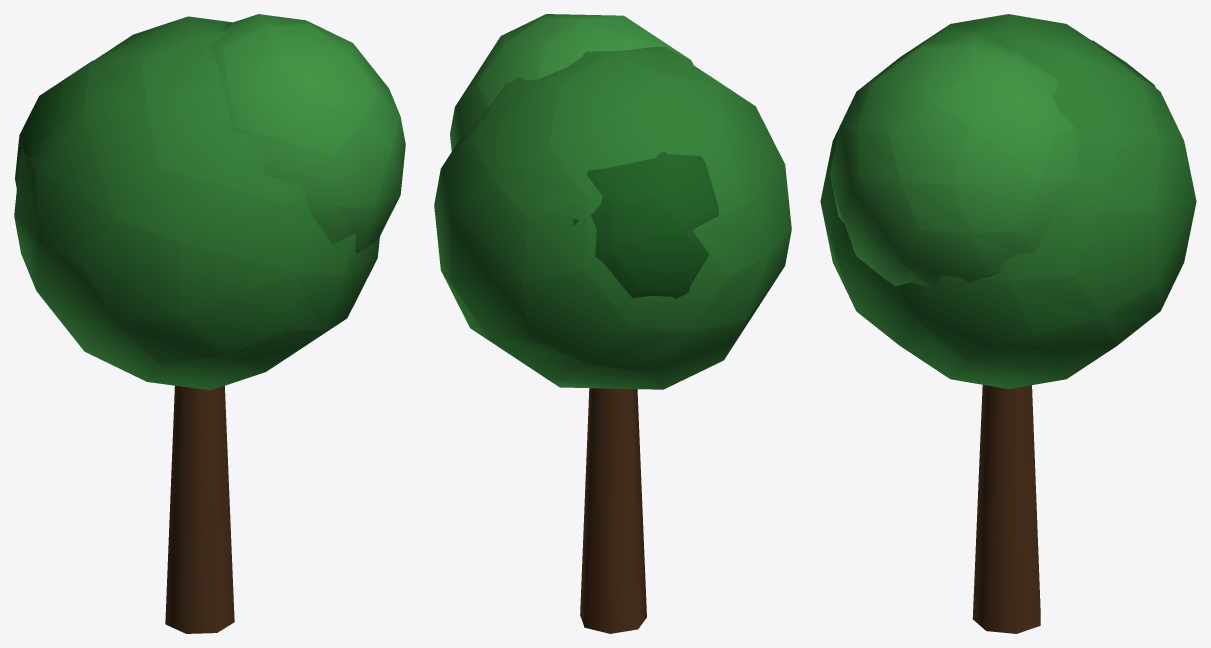
Rendered from tree_cozy.glb.
The picture shows the model from 3 angles, left to right: view 1: azimuth 30°, elevation 25°; view 2: azimuth 150°, elevation 25°; view 3: azimuth 270°, elevation 25°; orthographic projection. The views are drawn at different scales.
Parts seen in each view (by area): view 1: Foliage1, Foliage2, Trunk, Foliage3; view 2: Foliage1, Foliage3, Trunk, Foliage2; view 3: Foliage1, Foliage2, Trunk.
Boxes of the visible parts, x1,y1,x2,y2 form: Foliage1: (14,16,379,390); Foliage2: (209,14,405,253); Trunk: (165,385,234,633); Foliage3: (15,60,93,188); Foliage1: (434,47,791,389); Foliage3: (573,151,718,299); Trunk: (580,388,646,633); Foliage2: (450,14,693,151); Foliage1: (820,14,1196,389); Foliage2: (830,33,1080,288); Trunk: (972,385,1040,633).
Size of the model in its own units: 4.1 by 7 by 4.
